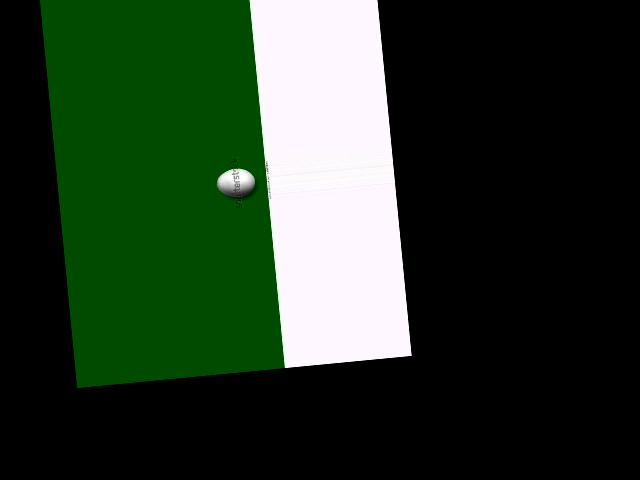egg: (215, 166, 256, 199)
